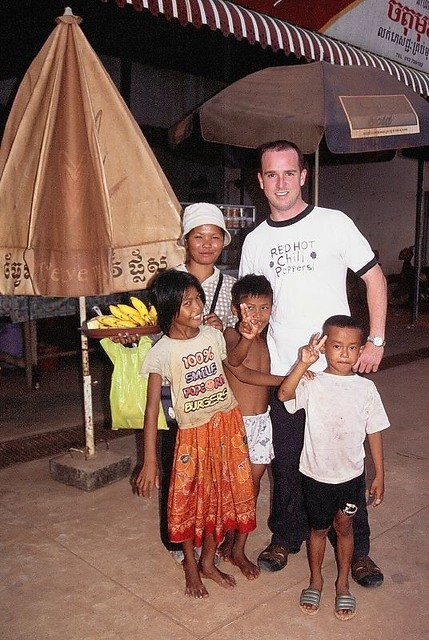face_no_mask: (254, 142, 306, 210), (177, 202, 225, 271), (156, 273, 203, 331), (229, 277, 272, 336), (321, 315, 363, 373)
